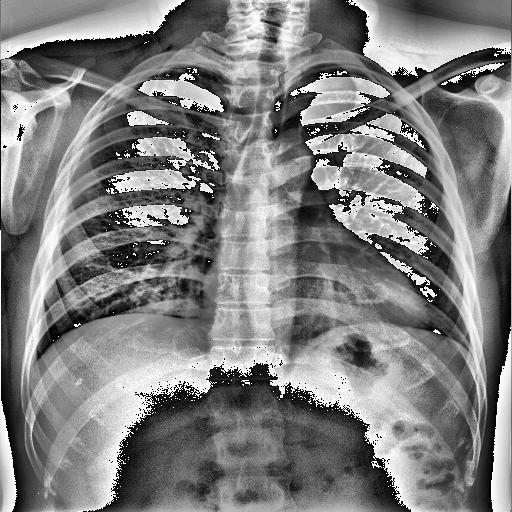11- Pleural thickening: (101, 83, 135, 115)
3- Cardiomegaly: (200, 264, 427, 324), (200, 276, 424, 334), (200, 282, 432, 328)
